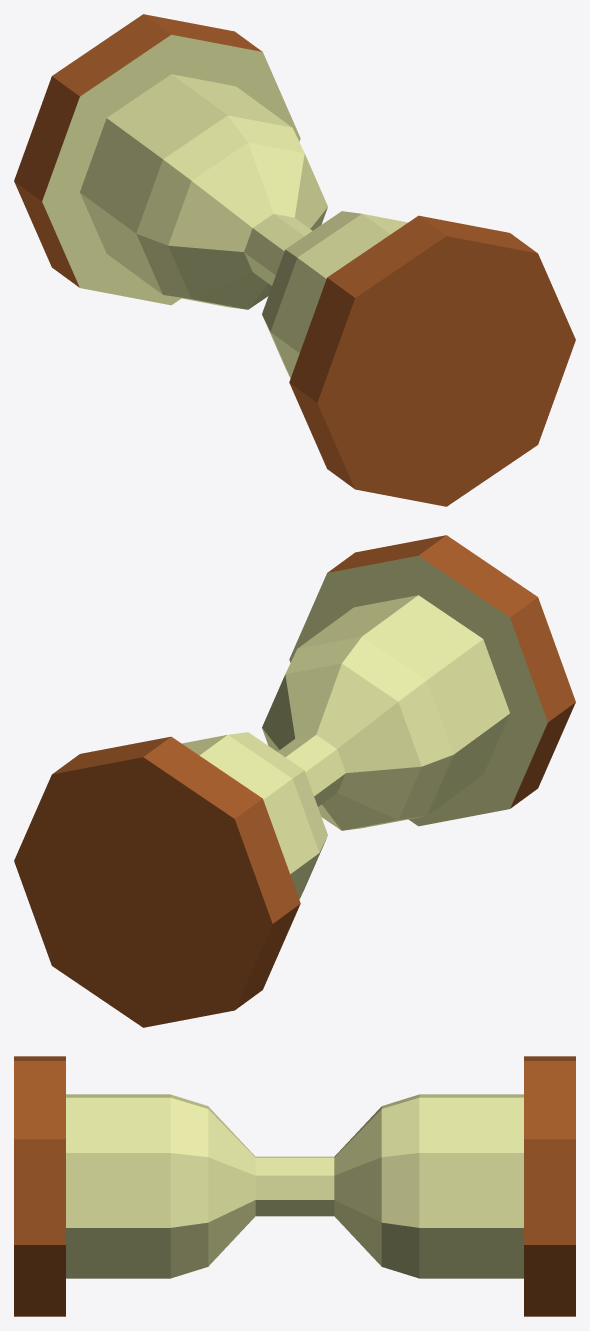
The model's file is sand_clock.fbx.
3 renders of one model, top to bottom at view 1: azimuth 30°, elevation 25°; view 2: azimuth 150°, elevation 25°; view 3: azimuth 270°, elevation 25°, orthographic. The views are drawn at different scales.
Parts seen in each view (by area): view 1: Circle; view 2: Circle; view 3: Circle.
Boxes of the visible parts, left/top/right/bottom form: Circle: left=14, top=14, right=575, bottom=506; Circle: left=14, top=535, right=575, bottom=1027; Circle: left=14, top=1056, right=575, bottom=1316.
Size of the model in its own units: 200 by 200 by 406.
